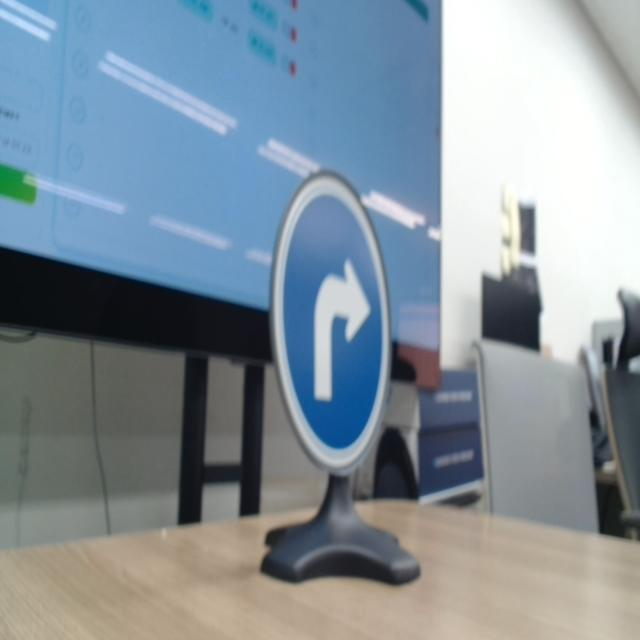right_dierection: (263, 168, 397, 476)
